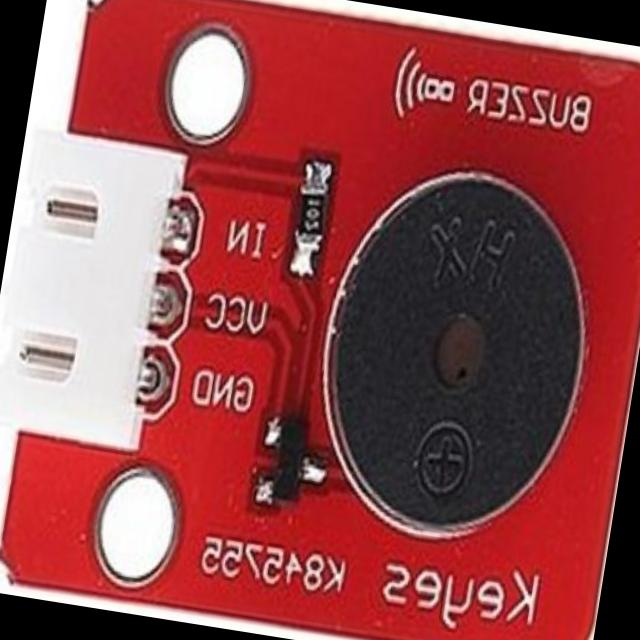connector: (0, 127, 194, 464)
resistor: (290, 168, 332, 262)
transistor: (260, 411, 324, 512)
